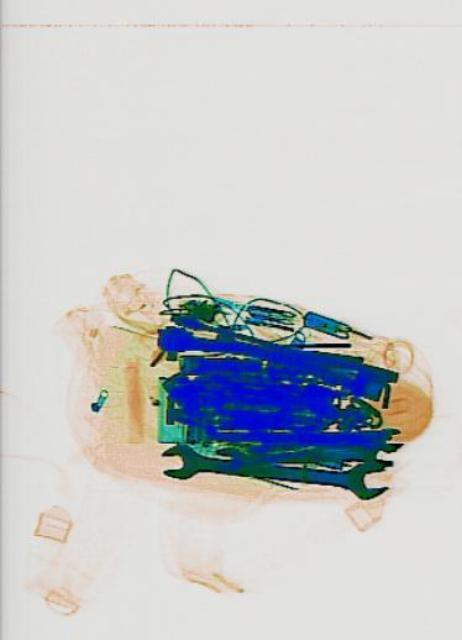Wrench: (158, 439, 386, 496), (250, 425, 399, 451)
